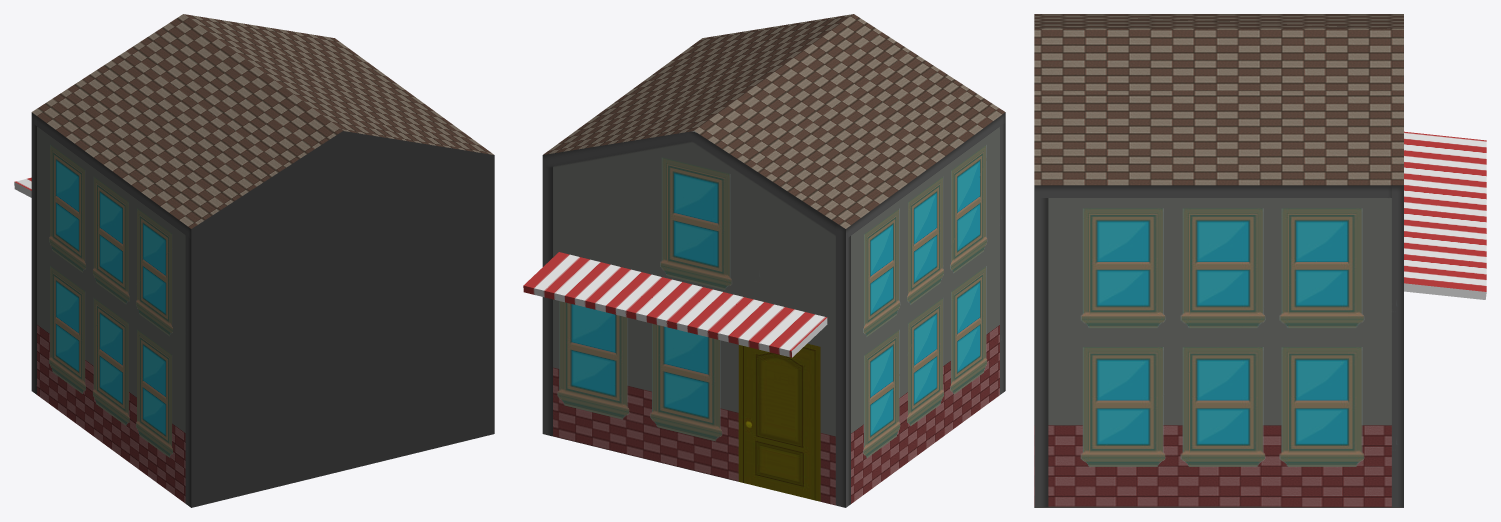
Rendered from Building 6.fbx.
3 renders of one model, left to right at view 1: azimuth 30°, elevation 25°; view 2: azimuth 150°, elevation 25°; view 3: azimuth 270°, elevation 25°, orthographic. The views are drawn at different scales.
Parts seen in each view (by area): view 1: BuildingCombined2; view 2: BuildingCombined2; view 3: BuildingCombined2.
Boxes of the visible parts, left/top/right/bottom form: BuildingCombined2: left=14, top=14, right=494, bottom=507; BuildingCombined2: left=523, top=14, right=1005, bottom=507; BuildingCombined2: left=1034, top=14, right=1486, bottom=507.
Bounding box in the file's own units: 798 × 854 × 890.
Materials: 2 (2 with a texture image).
